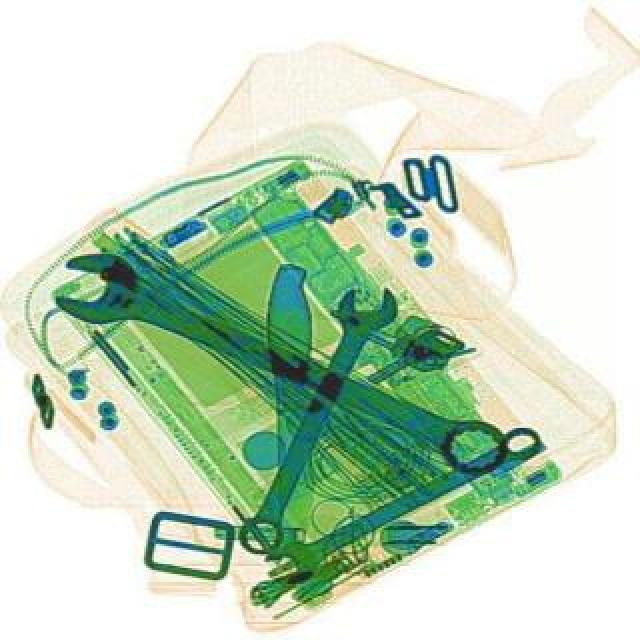knife: (262, 264, 316, 548)
scissors: (42, 238, 518, 486), (254, 418, 546, 594), (226, 274, 404, 562)
